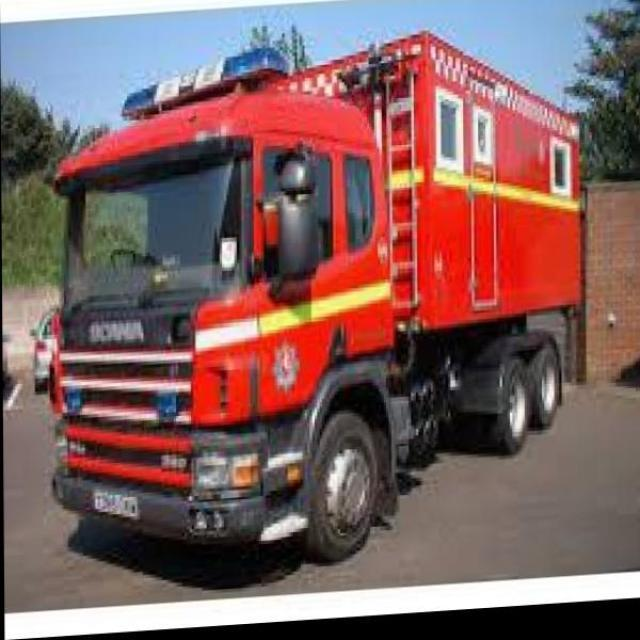emergency: (41, 24, 586, 564)
